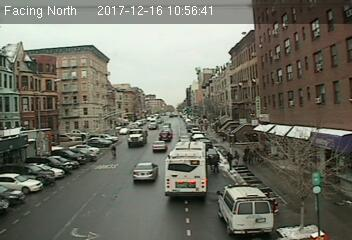bus: (164, 140, 209, 201)
car: (133, 160, 158, 181), (152, 140, 166, 152)
pedestrian: (226, 152, 234, 172), (213, 154, 220, 174), (233, 149, 240, 167)
police: (216, 183, 276, 233)
truck: (125, 127, 147, 147)
